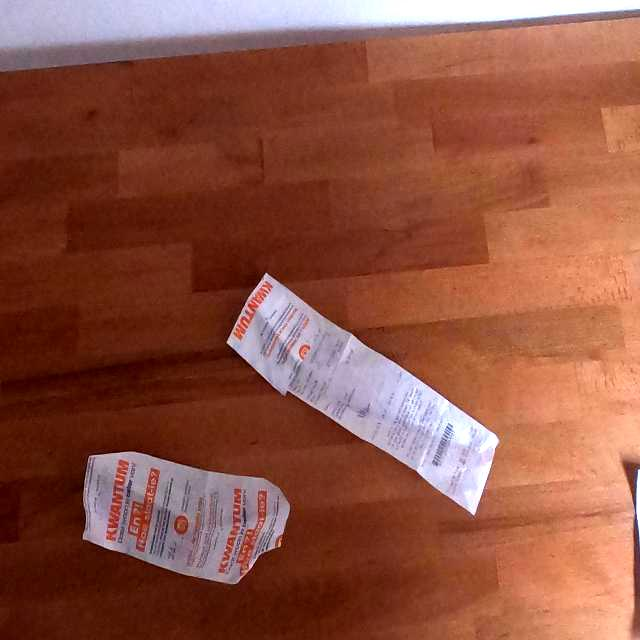Paper: (224, 267, 501, 519), (79, 449, 291, 587)
